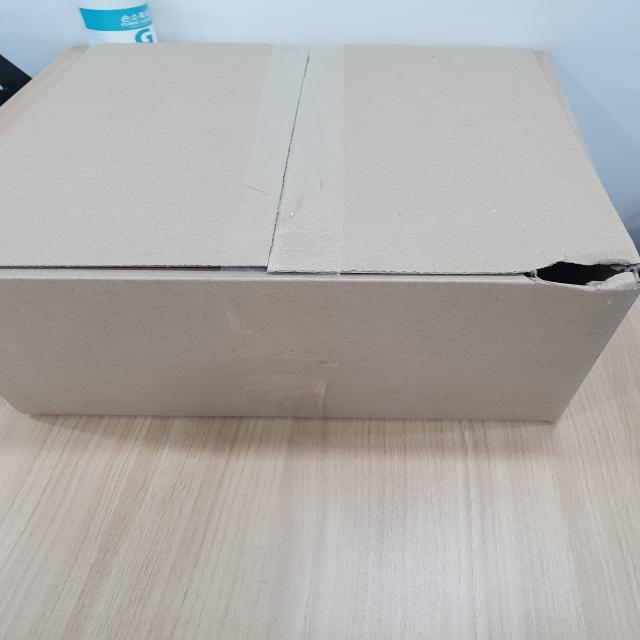hole: (515, 250, 640, 298)
